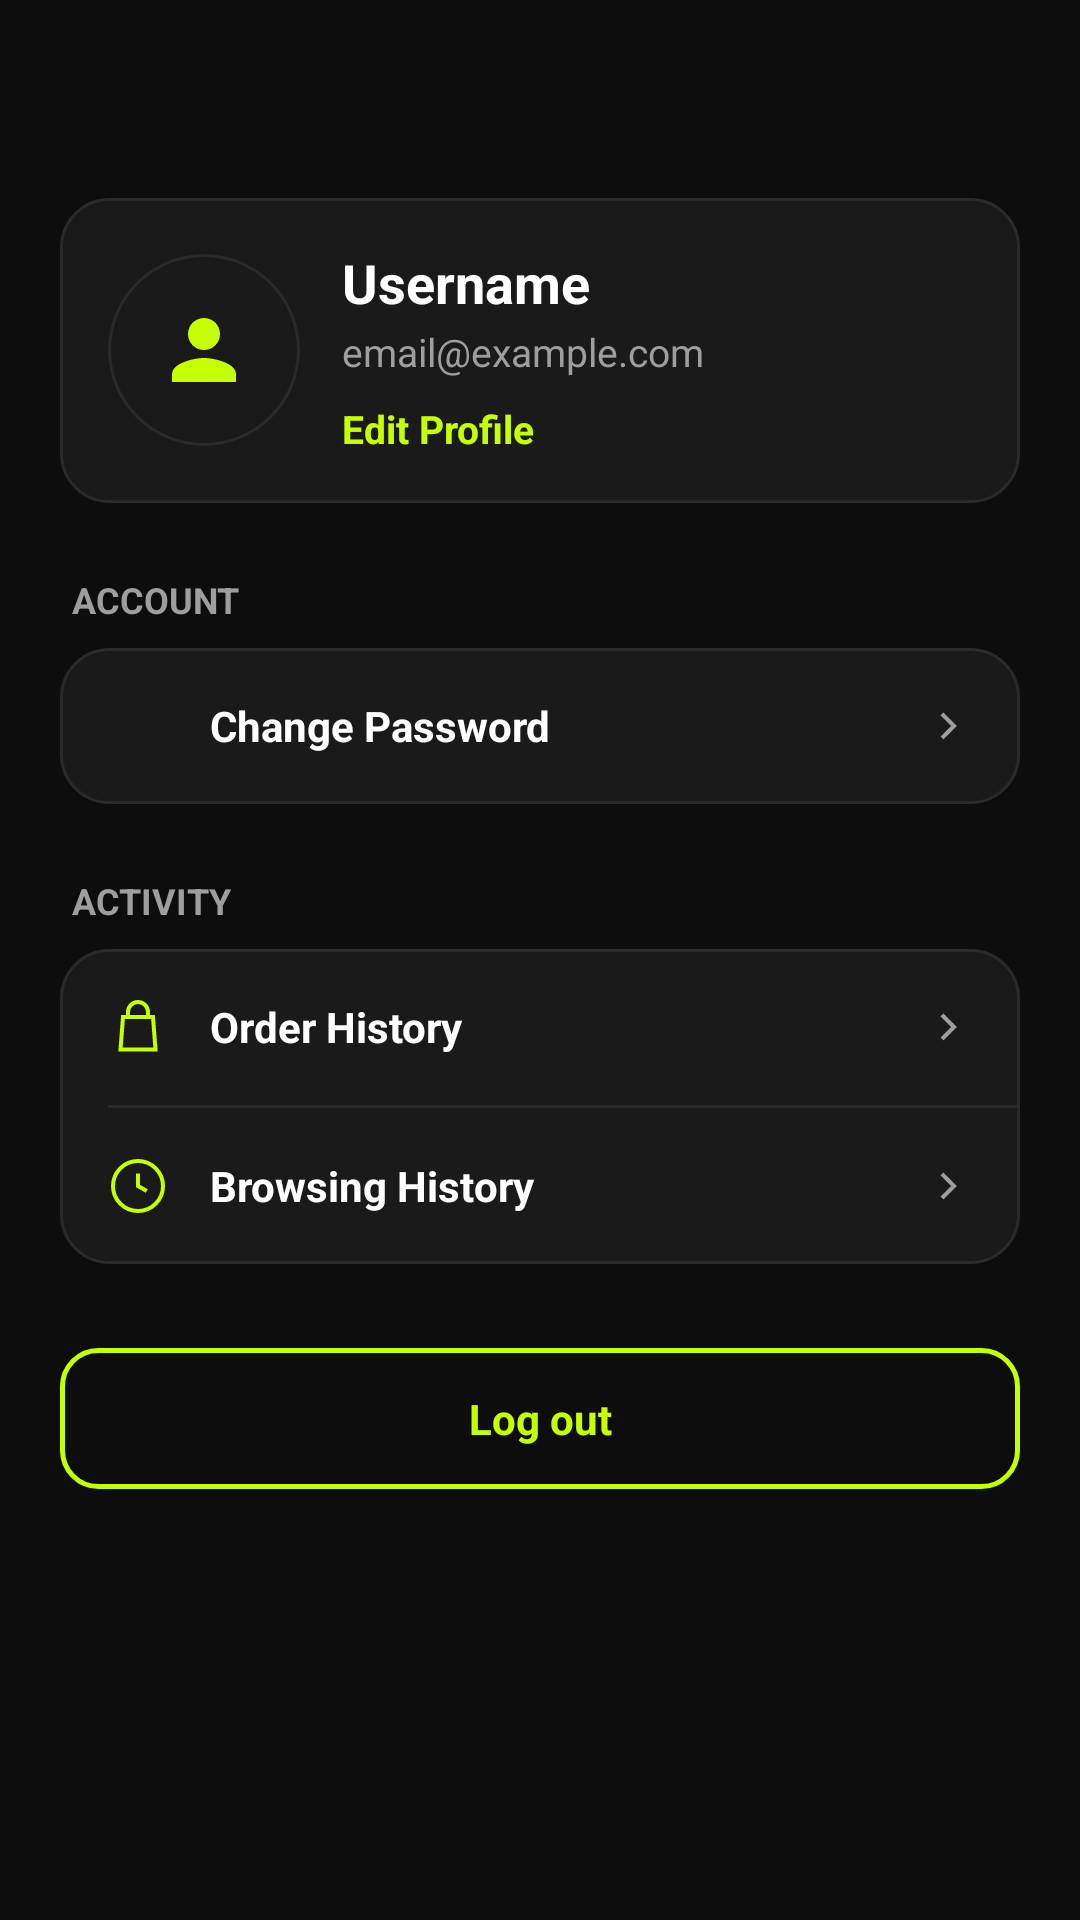

Named icons in this screenshot (1080 x 1920) and their centers, (x,y):
chevron right: (948,725), (948,1026), (948,1185)
clock: (138,1186)
order bag: (138,1026)
